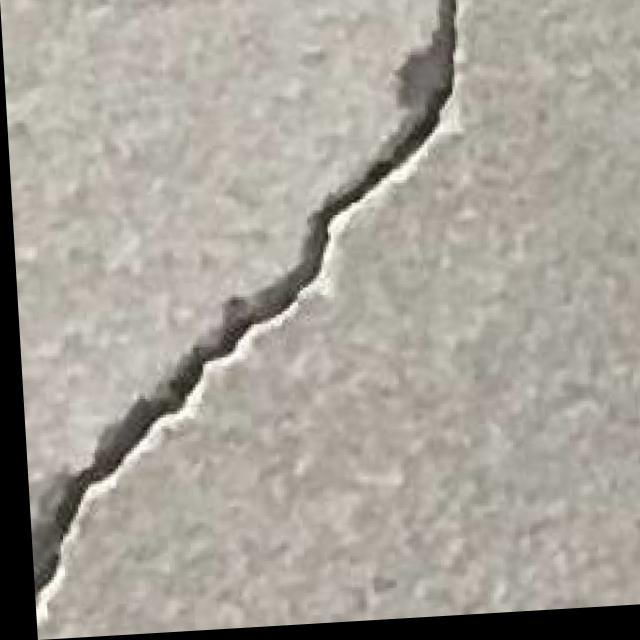Crack: (3, 0, 487, 598)
